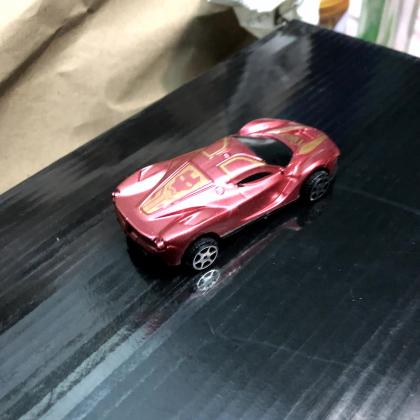Car: (112, 118, 340, 271)
